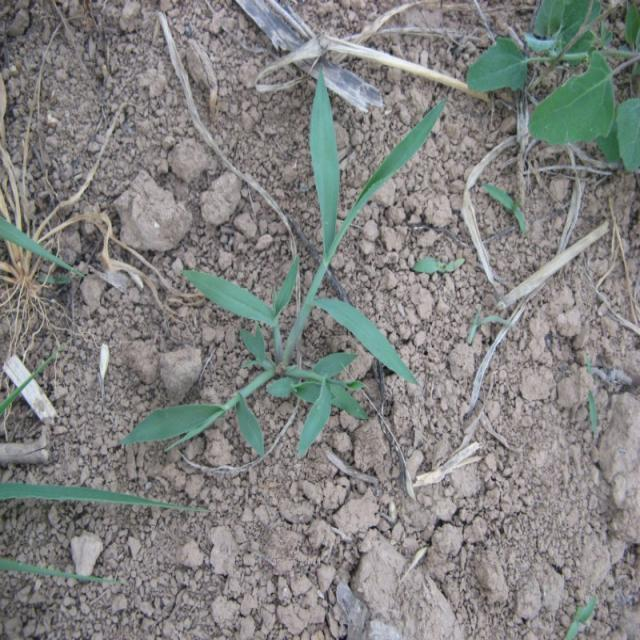bg: (125, 76, 441, 462)
